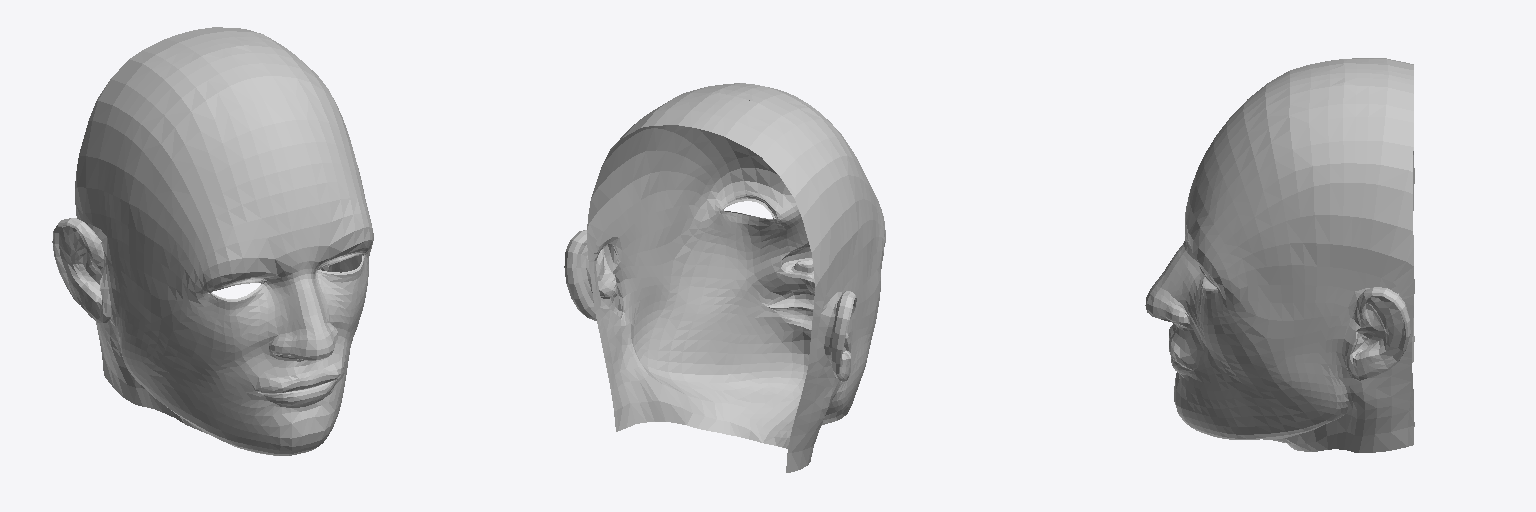
The model's file is Male_Head.obj.
3 renders of one model, left to right at view 1: azimuth 30°, elevation 25°; view 2: azimuth 150°, elevation 25°; view 3: azimuth 270°, elevation 25°, orthographic.
Visible parts, largest first — view 1: male_head.obj.001; view 2: male_head.obj.001; view 3: male_head.obj.001.
Part boxes in pixels (x1,y1,x2,y2): male_head.obj.001: (52, 27, 373, 455); male_head.obj.001: (564, 83, 885, 472); male_head.obj.001: (1145, 58, 1414, 452).
Bounding box in the file's own units: 30.35 × 37.49 × 24.94.